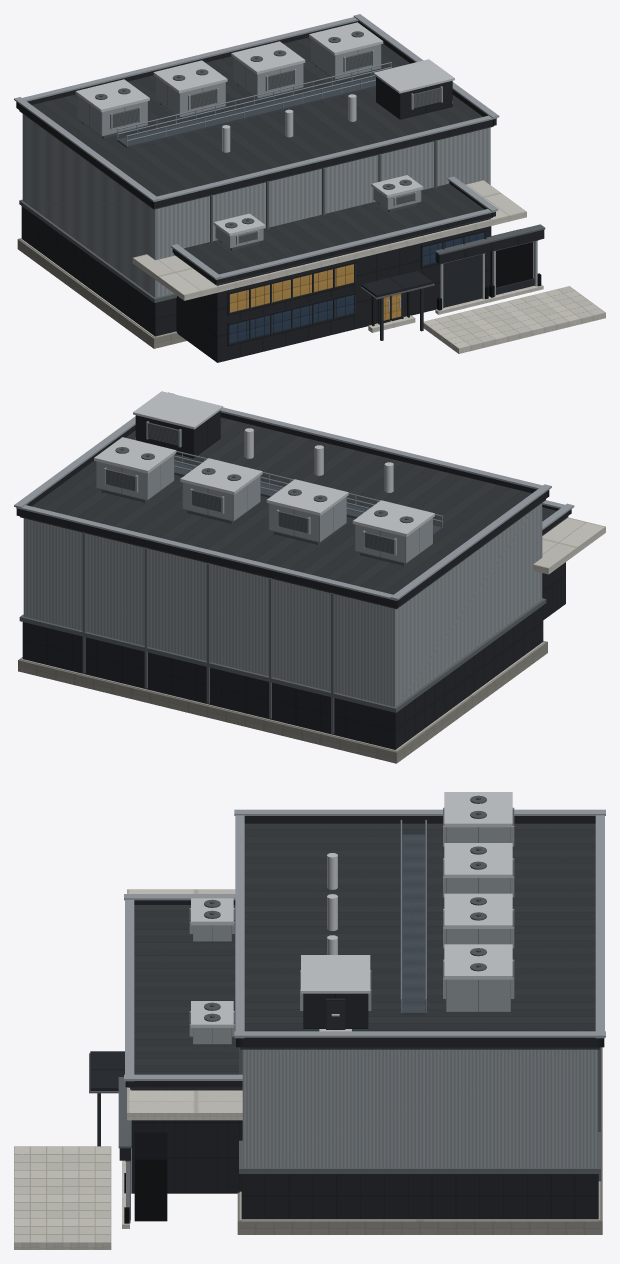
File: el-3-built.glb
The picture shows the model from 3 angles, top to bottom: view 1: azimuth 30°, elevation 25°; view 2: azimuth 150°, elevation 25°; view 3: azimuth 270°, elevation 25°; orthographic projection. The views are drawn at different scales.
Bounding box in the file's own units: 36.1 × 16.22 × 36.47.
34 materials, 25 textured.
